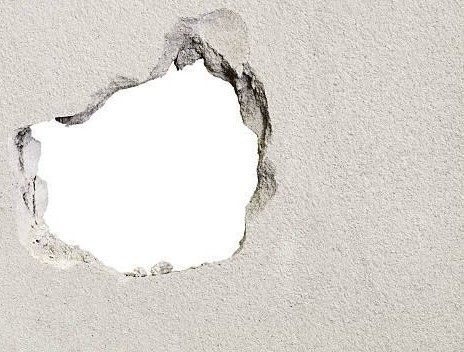Spalling: (13, 32, 280, 280)
